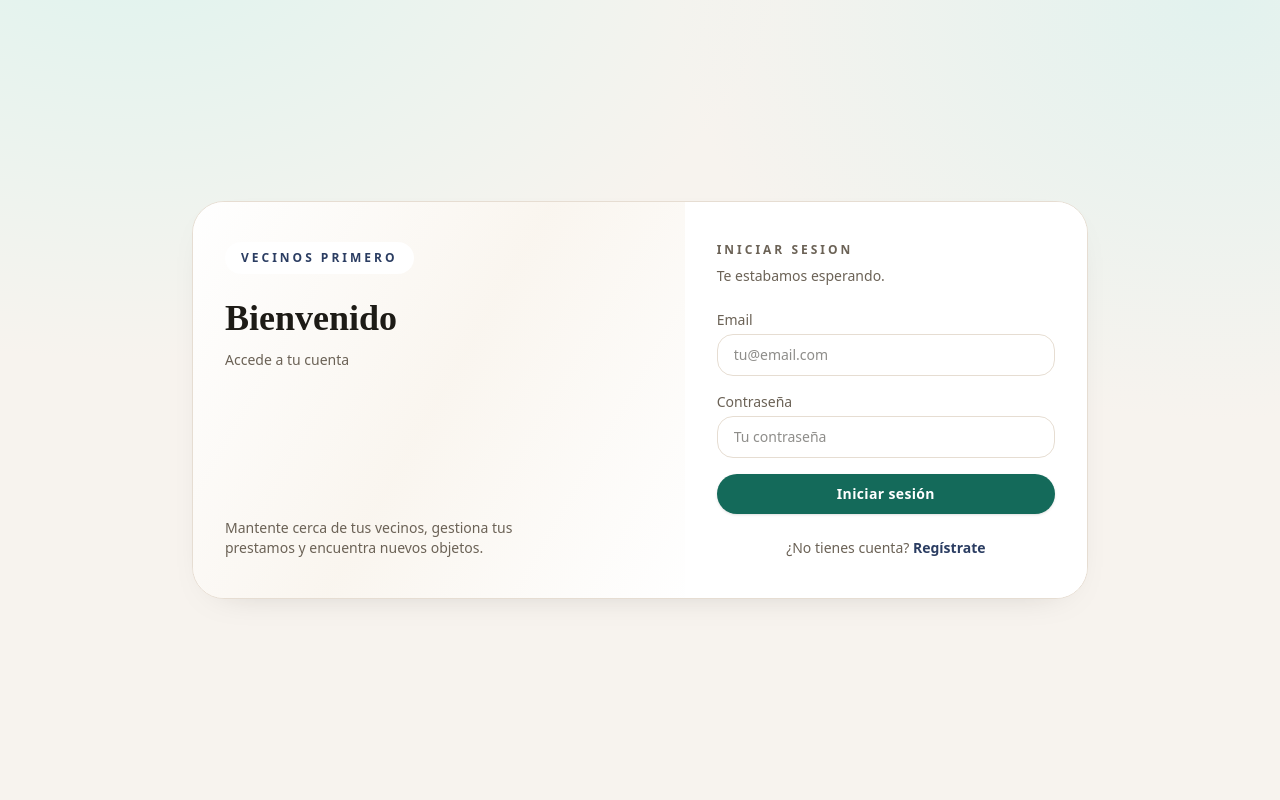
Scenario: LoginPage › el botón muestra "Cargando…" mientras la petición está en vuelo
The image size is (1280, 800).
Type "a@a.com" into the field labelled "Email" at point(886, 355), box [717,334,1055,376]
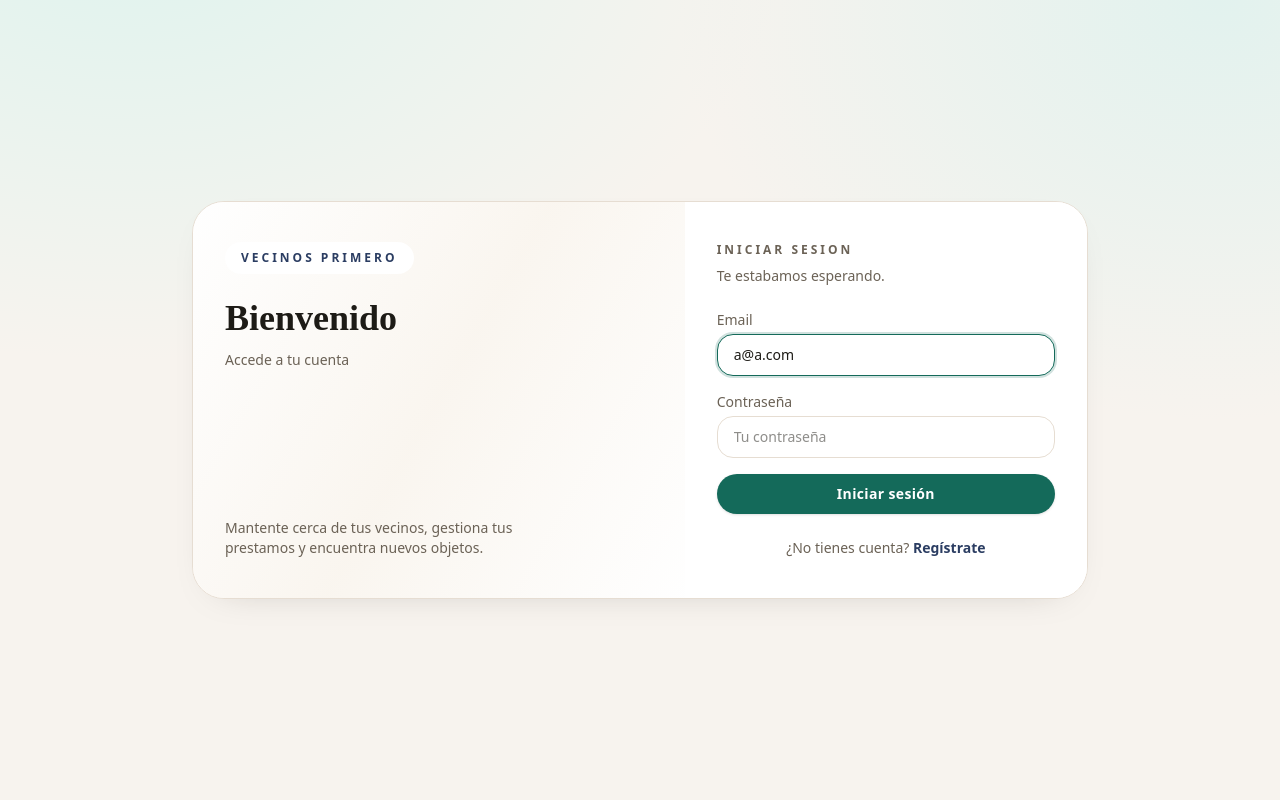
Type "password123" into the password field labelled "Contraseña" at point(886, 437), box [717,416,1055,458]
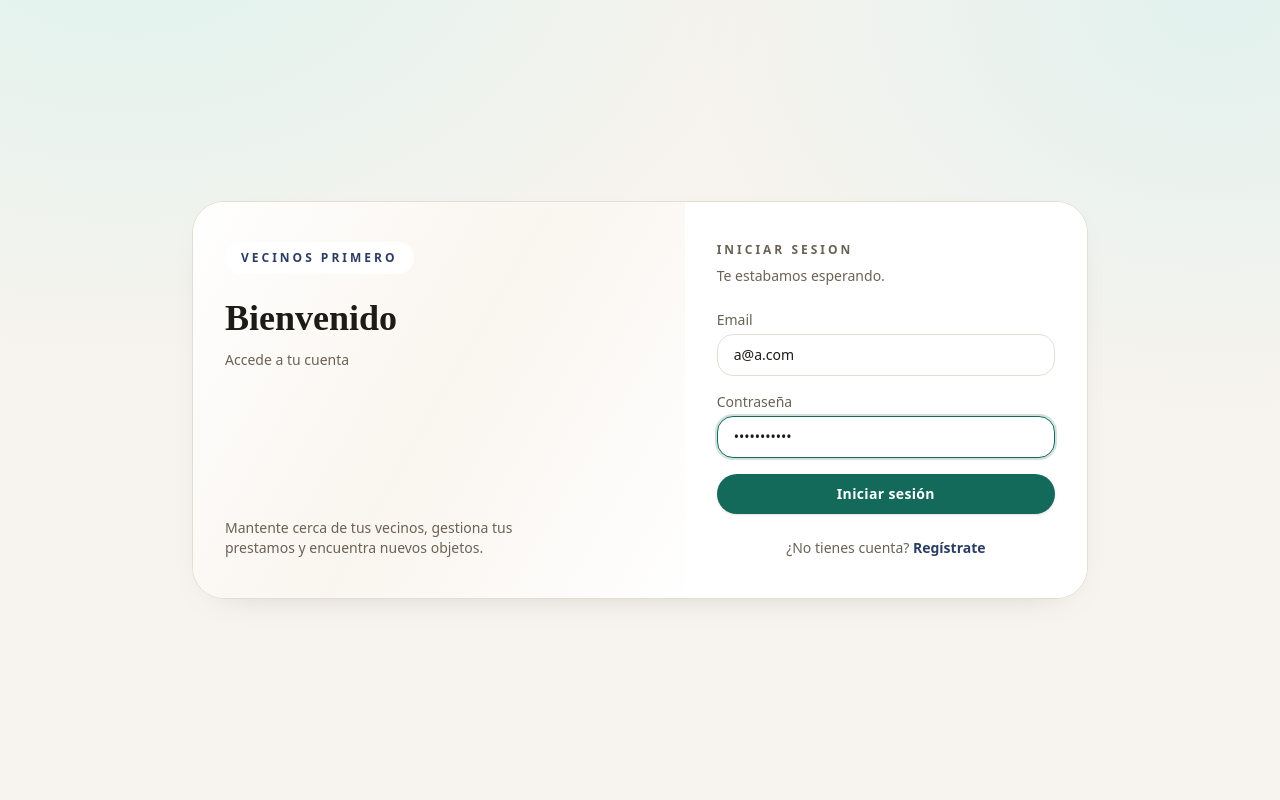
Click the button "Iniciar sesión" at point(886, 494), box [717,474,1055,514]
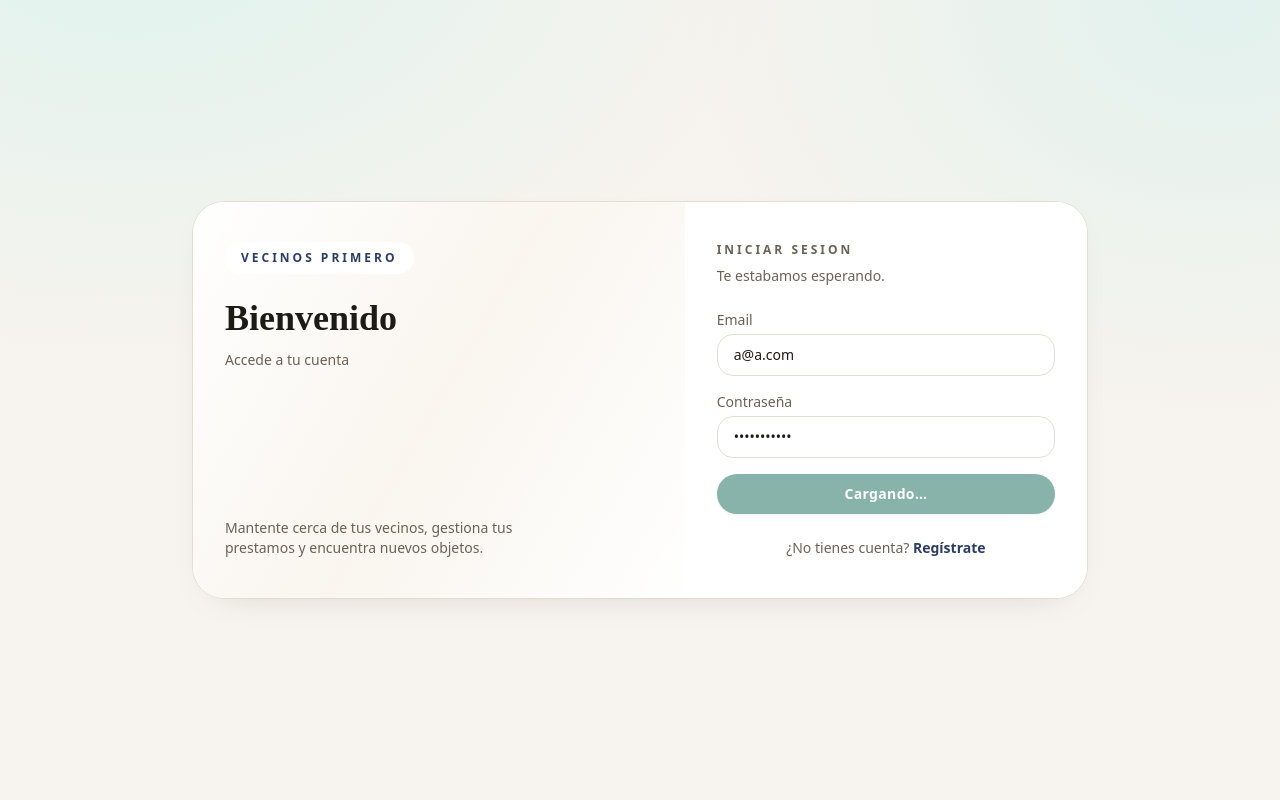
Now the button "Cargando…" is shown, box [717,474,1055,514]
